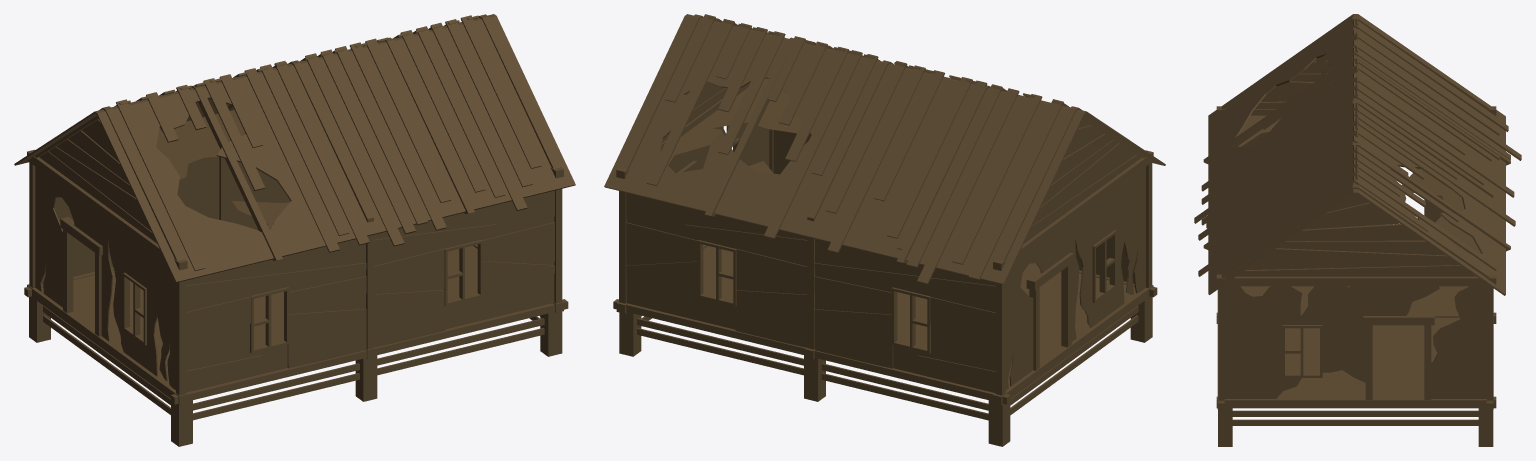
The model's file is Forest_House.FBX.
3 renders of one model, left to right at view 1: azimuth 30°, elevation 25°; view 2: azimuth 150°, elevation 25°; view 3: azimuth 270°, elevation 25°, orthographic. The views are drawn at different scales.
Visible parts, largest first — view 1: Forest_House; view 2: Forest_House; view 3: Forest_House.
Part boxes in pixels (x1,y1,x2,y2): Forest_House: [14, 14, 575, 446]; Forest_House: [604, 14, 1165, 446]; Forest_House: [1194, 14, 1521, 446].
Bounding box in the file's own units: 962 × 660 × 746.
1 material, 1 textured.
